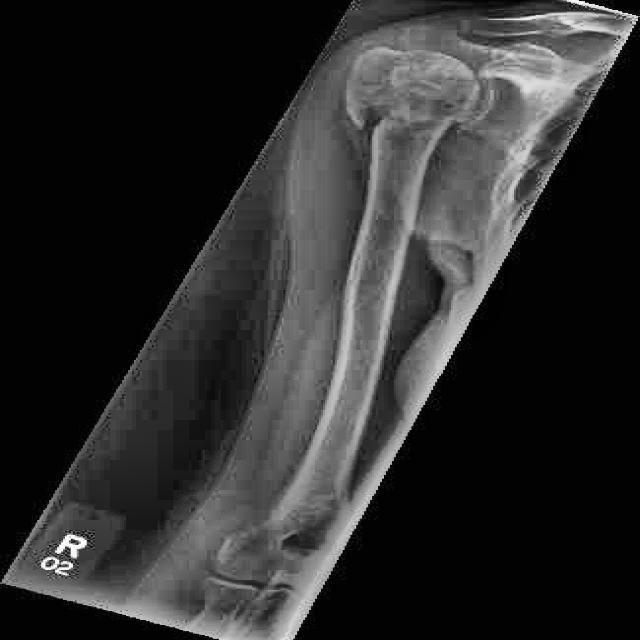humerus: (325, 97, 472, 147)
